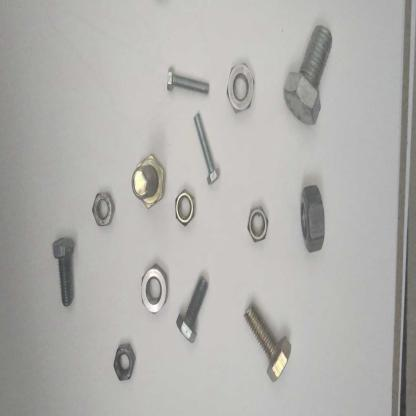Bolts: (280, 17, 342, 131), (240, 294, 295, 387), (174, 275, 214, 349), (161, 63, 218, 107), (130, 150, 169, 214), (190, 113, 221, 188), (51, 232, 78, 312)
NUTS: (300, 180, 334, 260), (222, 58, 262, 122), (137, 261, 171, 318), (246, 200, 274, 250), (110, 343, 140, 389), (172, 188, 204, 228), (91, 188, 118, 231)
